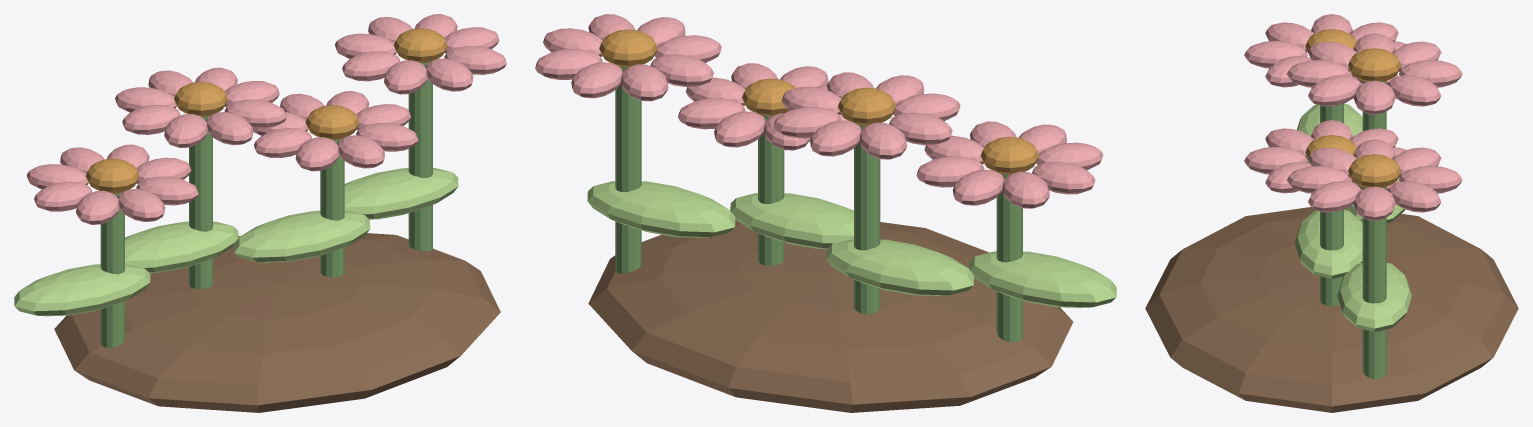
Rendered from Flower3.fbx.
3 views of the same model, side by side, from view 1: azimuth 30°, elevation 25°; view 2: azimuth 150°, elevation 25°; view 3: azimuth 270°, elevation 25° (orthographic). The views are drawn at different scales.
Parts seen in each view (by area): view 1: Worksite soil bed.009, Wide leaf.005, Wide leaf.003, Wide leaf.006, Wide leaf.004, Flower stalk.006, Flower stalk.004, Flower stalk.003, Flower stalk.005, Pollen disk.005, Pollen disk.003, Pollen disk.006 (+33 smaller); view 2: Worksite soil bed.009, Wide leaf.006, Wide leaf.004, Wide leaf.003, Wide leaf.005, Flower stalk.006, Flower stalk.004, Flower stalk.003, Flower stalk.005, Pollen disk.006, Pollen disk.003, Pollen disk.004 (+31 smaller); view 3: Worksite soil bed.009, Flower stalk.006, Wide leaf.006, Wide leaf.005, Flower stalk.005, Pollen disk.004, Pollen disk.006, Colored petal.039, Colored petal.033, Colored petal.049, Colored petal.055, Colored petal.032 (+26 smaller).
Part boxes in pixels (x1=…): Worksite soil bed.009: x1=54, y1=233, x2=500, y2=412; Wide leaf.005: x1=234, y1=210, x2=370, y2=262; Wide leaf.003: x1=14, y1=264, x2=150, y2=316; Wide leaf.006: x1=344, y1=168, x2=458, y2=219; Wide leaf.004: x1=125, y1=221, x2=238, y2=273; Flower stalk.006: x1=408, y1=62, x2=432, y2=251; Flower stalk.004: x1=189, y1=116, x2=212, y2=289; Flower stalk.003: x1=100, y1=192, x2=124, y2=347; Flower stalk.005: x1=320, y1=139, x2=344, y2=277; Pollen disk.005: x1=305, y1=105, x2=359, y2=139; Pollen disk.003: x1=86, y1=158, x2=139, y2=193; Pollen disk.006: x1=394, y1=28, x2=447, y2=63; Worksite soil bed.009: x1=588, y1=220, x2=1073, y2=412; Wide leaf.006: x1=587, y1=181, x2=735, y2=237; Wide leaf.004: x1=826, y1=239, x2=973, y2=295; Wide leaf.003: x1=969, y1=251, x2=1116, y2=307; Wide leaf.005: x1=730, y1=193, x2=853, y2=249; Flower stalk.006: x1=615, y1=66, x2=641, y2=273; Flower stalk.004: x1=854, y1=124, x2=880, y2=314; Flower stalk.003: x1=996, y1=174, x2=1022, y2=342; Flower stalk.005: x1=758, y1=115, x2=784, y2=265; Pollen disk.006: x1=599, y1=29, x2=657, y2=67; Pollen disk.003: x1=980, y1=136, x2=1038, y2=174; Pollen disk.004: x1=838, y1=87, x2=896, y2=125; Worksite soil bed.009: x1=1145, y1=207, x2=1518, y2=412; Flower stalk.006: x1=1362, y1=187, x2=1386, y2=378; Wide leaf.006: x1=1337, y1=262, x2=1411, y2=331; Wide leaf.005: x1=1294, y1=209, x2=1362, y2=278; Flower stalk.005: x1=1320, y1=209, x2=1343, y2=305; Pollen disk.004: x1=1348, y1=48, x2=1401, y2=81; Pollen disk.006: x1=1348, y1=154, x2=1401, y2=187; Colored petal.039: x1=1308, y1=75, x2=1361, y2=106; Colored petal.033: x1=1387, y1=75, x2=1441, y2=106; Colored petal.049: x1=1388, y1=181, x2=1441, y2=212; Colored petal.055: x1=1308, y1=181, x2=1361, y2=212; Colored petal.032: x1=1353, y1=80, x2=1395, y2=114.
Size of the model in its own units: 216 by 110 by 140.
